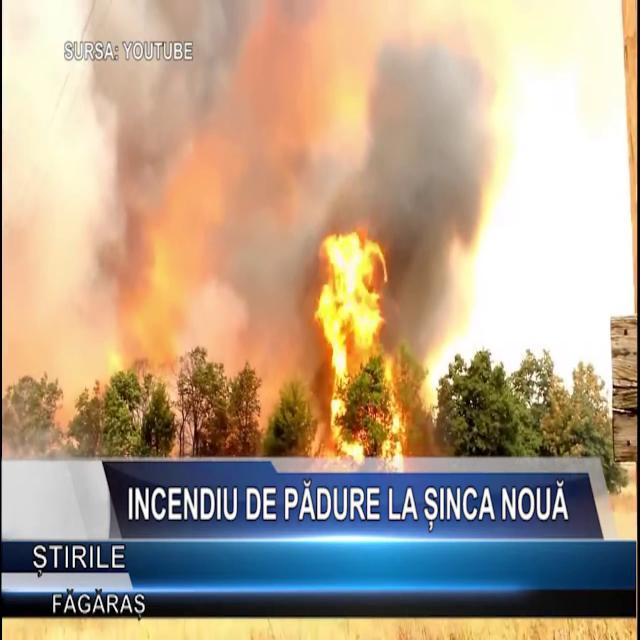Fire: (301, 225, 411, 468)
Smoke: (12, 0, 527, 421)
